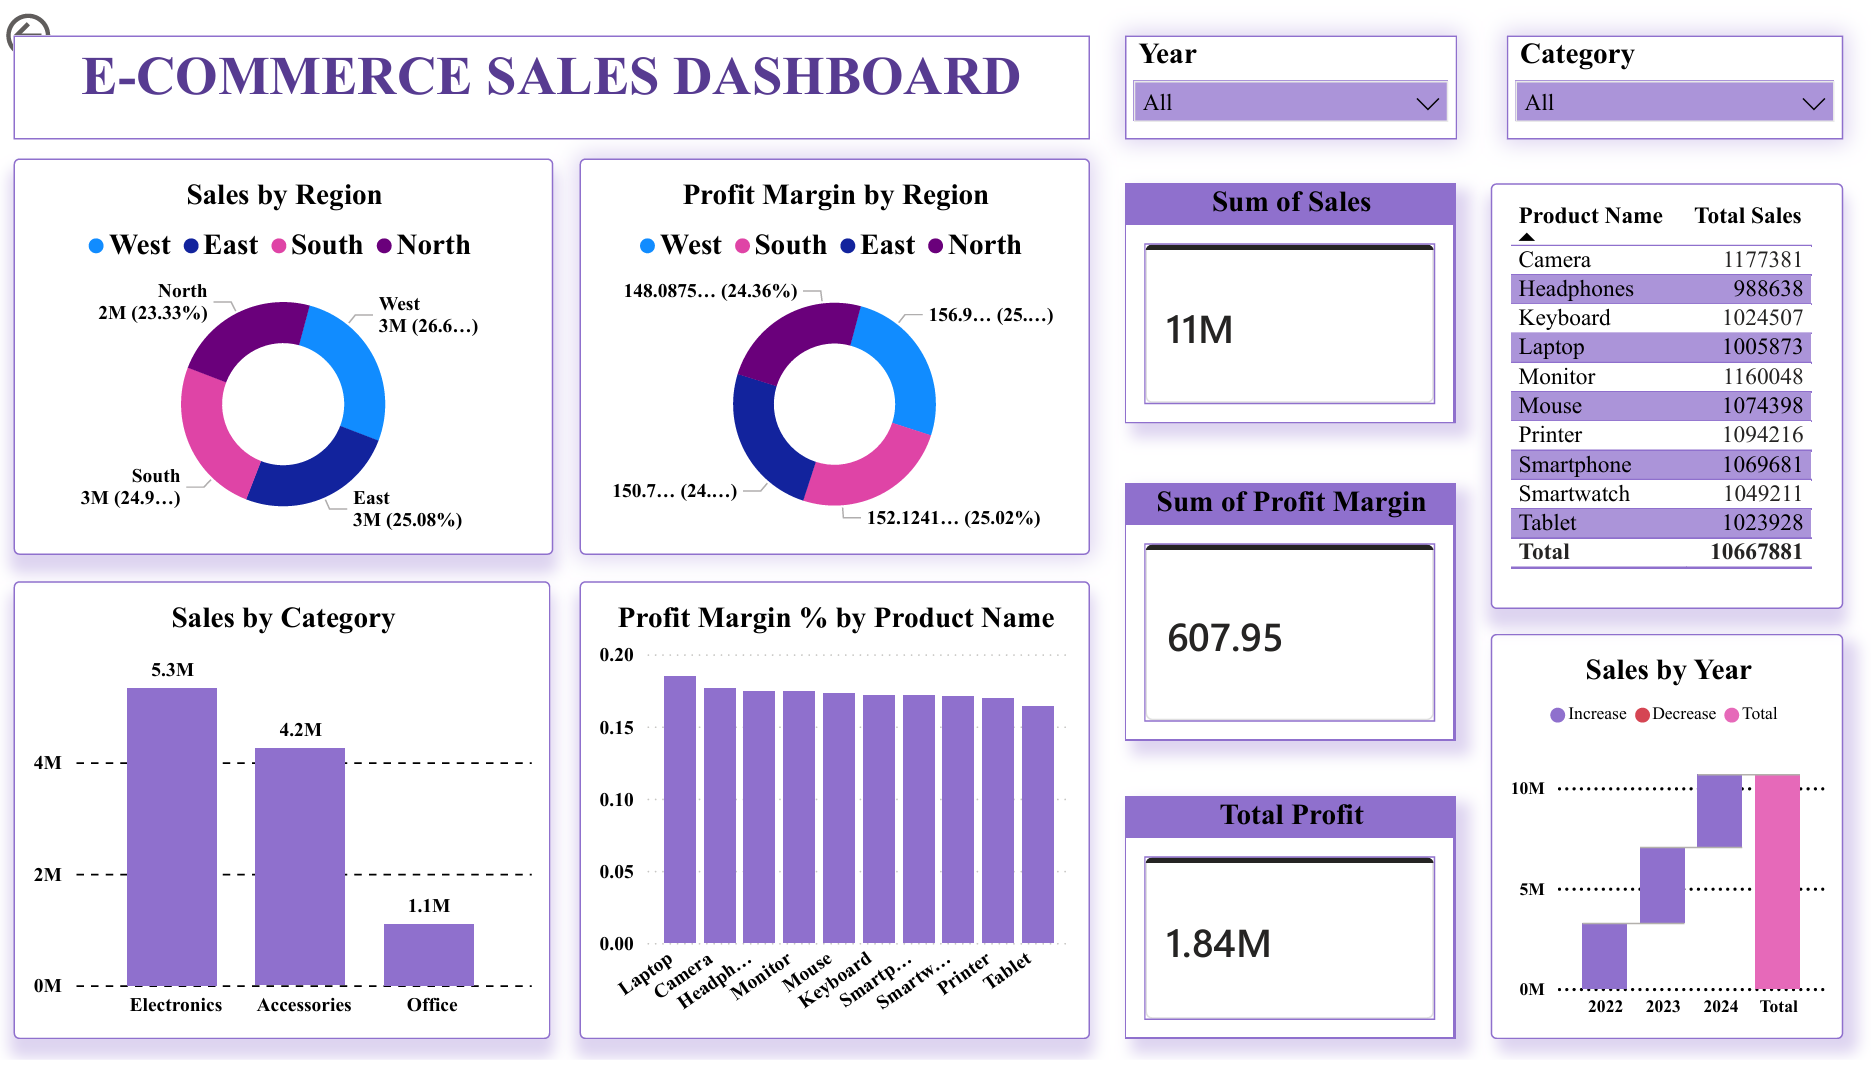

The dashboard page shown, as its layout file describes it:
{"tool":"powerbi","page":{"name":"Master","canvas":[1280,720],"ordinal":0},"visuals":[{"type":"clusteredColumnChart","title":"Sales by Category","fields":{"Category":["ecommerce_sales_data.Category"],"Y":["ecommerce_sales_data.Total Sales"]},"box":[10,392.9,367.1,312.9],"z":0},{"type":"actionButton","box":[0,0,100,40],"z":1000},{"type":"waterfallChart","title":"Sales by Year","fields":{"Category":["ecommerce_sales_data.Order Date.Variation.Date Hierarchy.Year","ecommerce_sales_data.Order Date.Variation.Date Hierarchy.Quarter","ecommerce_sales_data.Order Date.Variation.Date Hierarchy.Month","ecommerce_sales_data.Order Date.Variation.Date Hierarchy.Day"],"Y":["Sum(ecommerce_sales_data.Sales)"]},"box":[1020,428.6,241.4,277.1],"z":2000},{"type":"columnChart","fields":{"Category":["ecommerce_sales_data.Product Name"],"Y":["ecommerce_sales_data.Profit Margin %"]},"box":[397.1,392.9,348.6,312.9],"z":3000},{"type":"tableEx","fields":{"Values":["ecommerce_sales_data.Product Name","ecommerce_sales_data.Total Sales"]},"box":[1020,121.4,241.4,291.4],"z":4000},{"type":"cardVisual","title":"Sum of Sales","fields":{"Data":["Sum(ecommerce_sales_data.Sales)"]},"box":[770,121.4,225.7,164.3],"z":5000},{"type":"donutChart","title":"Sales by Region","fields":{"Category":["ecommerce_sales_data.Region"],"Y":["ecommerce_sales_data.Total Sales"]},"box":[10,104.3,368.6,271.4],"z":6000},{"type":"cardVisual","title":"Total Profit","fields":{"Data":["ecommerce_sales_data.Total Profit"]},"box":[770,540,225.7,165.7],"z":7000},{"type":"cardVisual","title":"Sum of Profit Margin","fields":{"Data":["Sum(ecommerce_sales_data.Profit Margin)"]},"box":[770,325.7,225.7,175.7],"z":8000},{"type":"slicer","fields":{"Values":["ecommerce_sales_data.Category"]},"box":[1031.4,20,230,71.4],"z":9000},{"type":"slicer","fields":{"Values":["ecommerce_sales_data.Year"]},"box":[770,20,227.1,71.4],"z":10000},{"type":"donutChart","title":"Profit Margin by Region","fields":{"Category":["ecommerce_sales_data.Region"],"Y":["Sum(ecommerce_sales_data.Profit Margin)"]},"box":[397.1,104.3,348.6,271.4],"z":11000},{"type":"textbox","box":[10,20,735.7,71.4],"z":12000}]}

Visuals, with their boxes in screenshot pixels (x1, y1, x2, y2), scaled from the page's 1280x720 canvas onto the 1871x1066 screenshot:
"Sales by Category" clusteredColumnChart: select_region(15, 582, 551, 1045)
actionButton: select_region(0, 0, 146, 59)
"Sales by Year" waterfallChart: select_region(1491, 635, 1844, 1045)
columnChart - ecommerce_sales_data.Product Name x ecommerce_sales_data.Profit Margin %: select_region(580, 582, 1090, 1045)
tableEx - ecommerce_sales_data.Product Name x ecommerce_sales_data.Total Sales: select_region(1491, 180, 1844, 611)
"Sum of Sales" cardVisual: select_region(1126, 180, 1455, 423)
"Sales by Region" donutChart: select_region(15, 154, 553, 556)
"Total Profit" cardVisual: select_region(1126, 800, 1455, 1045)
"Sum of Profit Margin" cardVisual: select_region(1126, 482, 1455, 742)
slicer - ecommerce_sales_data.Category: select_region(1508, 30, 1844, 135)
slicer - ecommerce_sales_data.Year: select_region(1126, 30, 1457, 135)
"Profit Margin by Region" donutChart: select_region(580, 154, 1090, 556)
textbox: select_region(15, 30, 1090, 135)
